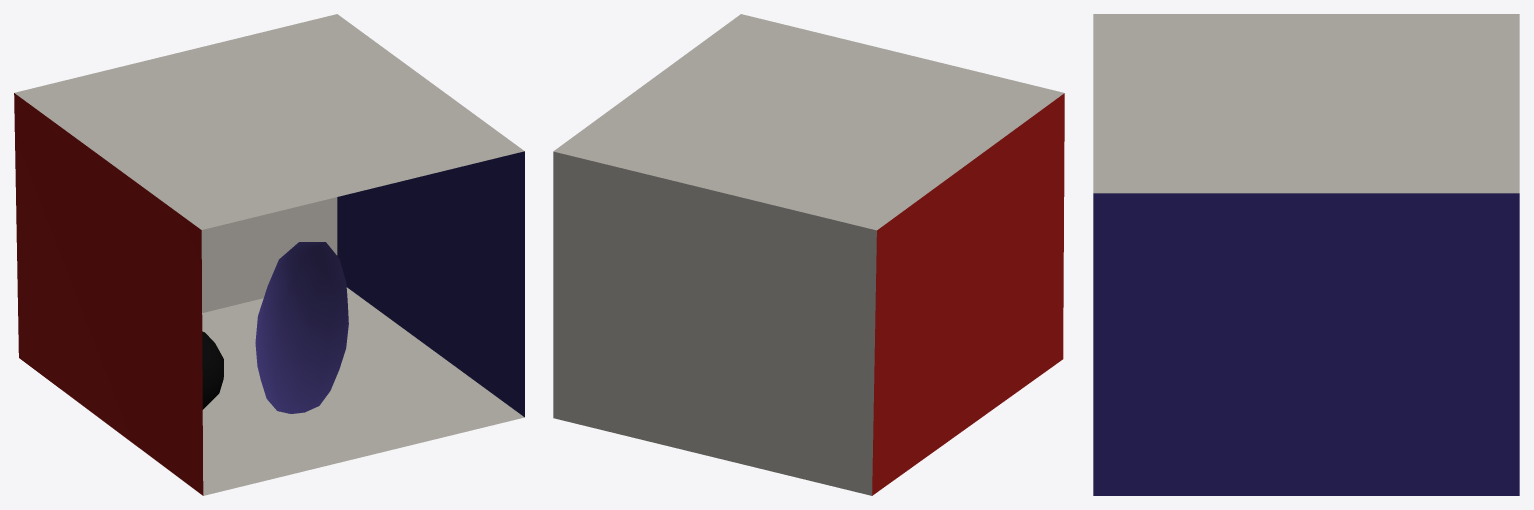
Rendered from CornellBox-Ellipsoid-374.obj.
The picture shows the model from 3 angles, left to right: view 1: azimuth 30°, elevation 25°; view 2: azimuth 150°, elevation 25°; view 3: azimuth 270°, elevation 25°; orthographic projection. The views are drawn at different scales.
Visible parts, largest first — view 1: ceiling, leftWall, rightWall, floor, leftSphere, backWall, rightSphere; view 2: backWall, ceiling, leftWall; view 3: rightWall, ceiling.
Boxes of the visible parts, x1,y1,x2,y2 form: ceiling: [14, 14, 524, 229]; leftWall: [14, 93, 203, 495]; rightWall: [337, 151, 524, 417]; floor: [202, 287, 524, 495]; leftSphere: [255, 242, 348, 413]; backWall: [201, 197, 337, 312]; rightSphere: [202, 331, 223, 409]; backWall: [553, 151, 876, 495]; ceiling: [553, 14, 1064, 230]; leftWall: [872, 93, 1064, 495]; rightWall: [1093, 193, 1519, 495]; ceiling: [1093, 14, 1519, 193].
Bounding box in the file's own units: 2.02 × 1.59 × 2.03.
